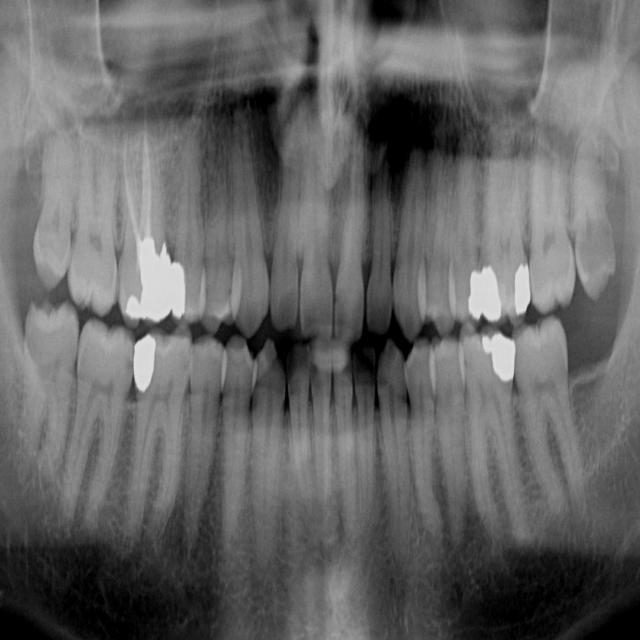dentin-curugu: (289, 341, 317, 414), (346, 349, 386, 397)
dolgu: (118, 233, 174, 324), (478, 250, 534, 331), (462, 326, 516, 393), (158, 252, 204, 324), (128, 325, 168, 404)
kanal-tedavisi: (109, 128, 170, 246)
